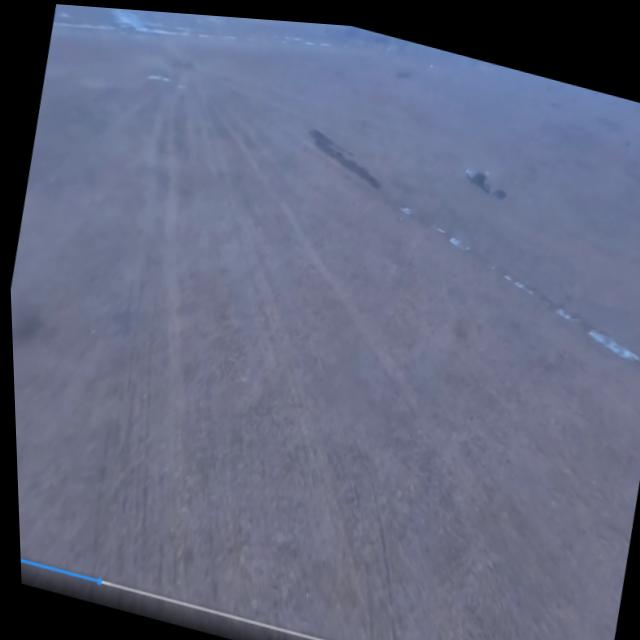planedrone: (453, 156, 514, 212)
